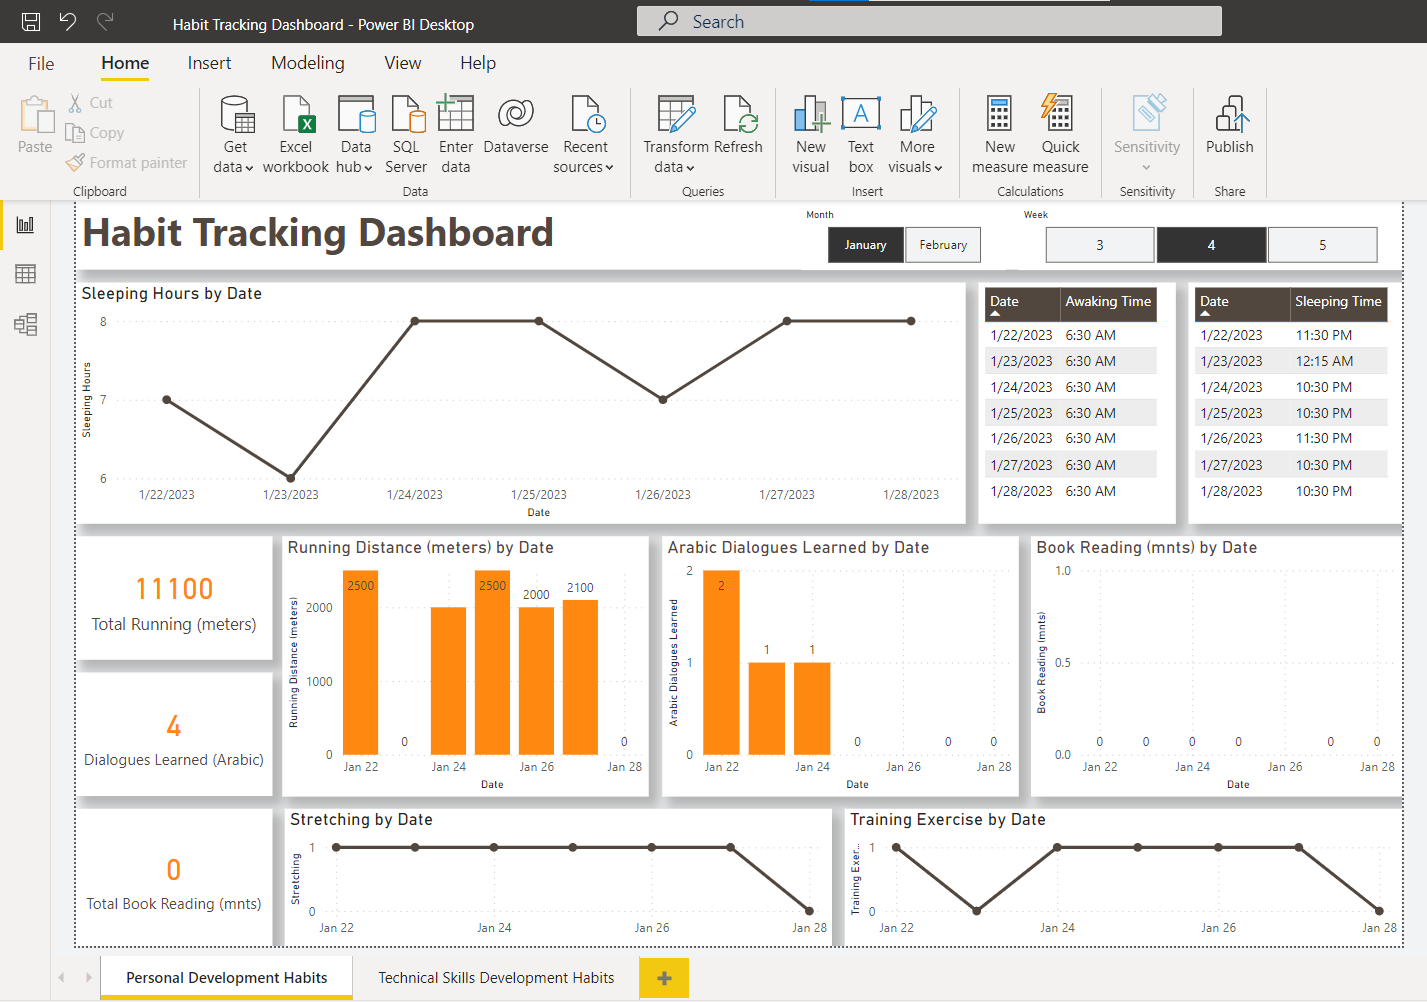

The page's visual inventory and layout, read from the dashboard file:
{"tool":"powerbi","page":{"name":"Personal Development Habits","canvas":[1280,720],"ordinal":0},"visuals":[{"type":"textbox","box":[0,0,1279.6,67.5],"z":0},{"type":"lineChart","fields":{"Category":["Dim_Date.Date"],"Y":["Sum(Fact_Data.Sleep Duration)"]},"box":[0,79.6,858.7,232.8],"z":1000},{"type":"tableEx","fields":{"Values":["Fact_Data.Date","Fact_Data.Awaking Time"]},"box":[870.8,79.6,190.6,232.8],"z":2000},{"type":"slicer","title":"Month","fields":{"Values":["Dim_Date.Month Name"]},"box":[699.5,8.4,197.8,59.1],"z":3000},{"type":"slicer","title":"Week","fields":{"Values":["Dim_Date.Week of Month"]},"box":[909.3,8.4,370.3,59.1],"z":4000},{"type":"tableEx","fields":{"Values":["Fact_Data.Date","Fact_Data.Sleeping Time"]},"box":[1073.4,79.6,206.2,232.8],"z":5000},{"type":"card","fields":{"Values":["Basic Calculations.Total Running Distance"]},"box":[0,324.4,189.3,119.4],"z":6000},{"type":"card","fields":{"Values":["Basic Calculations.Total Dialogues Learned (Arabic)"]},"box":[0,455.9,189.3,119.4],"z":7000},{"type":"card","fields":{"Values":["Basic Calculations.Total Time (Book Reading)"]},"box":[0,587.3,189.3,132.7],"z":8000},{"type":"columnChart","fields":{"Category":["Dim_Date.Date"],"Y":["Sum(Fact_Data.Running Distance (meters))"]},"box":[199,324.4,353.4,250.9],"z":9000},{"type":"columnChart","fields":{"Category":["Dim_Date.Date"],"Y":["Sum(Fact_Data.Ara_lang Dialogues Learned)"]},"box":[565.6,324.4,343.7,250.9],"z":10000},{"type":"columnChart","fields":{"Category":["Dim_Date.Date"],"Y":["Sum(Fact_Data.Book Reading (mnts))"]},"box":[921.4,324.4,358.2,250.9],"z":11000},{"type":"lineChart","fields":{"Category":["Fact_Data.Date"],"Y":["Sum(Fact_Data.Stretching)"]},"box":[201.4,587.3,528.2,132.7],"z":12000},{"type":"lineChart","fields":{"Category":["Fact_Data.Date"],"Y":["Sum(Fact_Data.Training Exercises)"]},"box":[741.7,587.3,537.9,132.7],"z":13000}]}

Visuals, with their boxes on the page's 1280x720 design canvas (x1, y1, x2, y2). These are canvas units, not pixel positions in the 1427x1002 screenshot, which may show the page scaled, cropped or inside an application window:
textbox: 0/0/1280/68
lineChart - Dim_Date.Date x Sum(Fact_Data.Sleep Duration): 0/80/859/312
tableEx - Fact_Data.Date x Fact_Data.Awaking Time: 871/80/1061/312
"Month" slicer: 700/8/897/68
"Week" slicer: 909/8/1280/68
tableEx - Fact_Data.Date x Fact_Data.Sleeping Time: 1073/80/1280/312
card - Basic Calculations.Total Running Distance: 0/324/189/444
card - Basic Calculations.Total Dialogues Learned (Arabic): 0/456/189/575
card - Basic Calculations.Total Time (Book Reading): 0/587/189/720
columnChart - Dim_Date.Date x Sum(Fact_Data.Running Distance (meters)): 199/324/552/575
columnChart - Dim_Date.Date x Sum(Fact_Data.Ara_lang Dialogues Learned): 566/324/909/575
columnChart - Dim_Date.Date x Sum(Fact_Data.Book Reading (mnts)): 921/324/1280/575
lineChart - Fact_Data.Date x Sum(Fact_Data.Stretching): 201/587/730/720
lineChart - Fact_Data.Date x Sum(Fact_Data.Training Exercises): 742/587/1280/720
